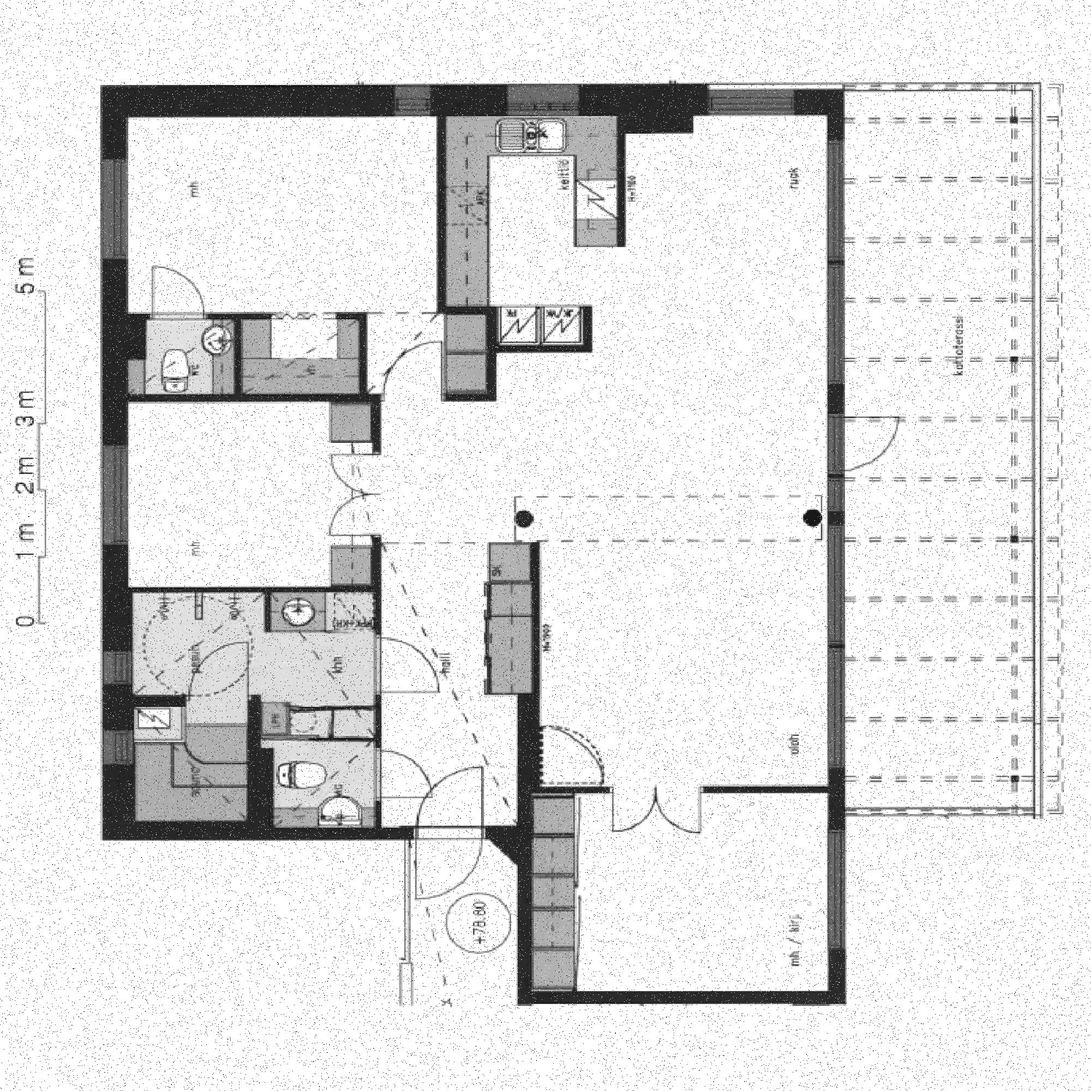wall: (101, 84, 847, 115), (101, 84, 126, 840), (831, 84, 847, 1004), (101, 826, 534, 841), (519, 989, 847, 1003), (371, 402, 380, 826), (127, 394, 499, 403), (519, 826, 534, 1003), (534, 787, 831, 794), (437, 115, 447, 313), (519, 694, 534, 826), (126, 586, 371, 593), (126, 313, 367, 320), (249, 693, 260, 826), (126, 693, 260, 703), (534, 542, 542, 694), (618, 115, 625, 248), (490, 304, 499, 403), (534, 694, 542, 793), (499, 346, 593, 353), (360, 313, 367, 394), (437, 304, 499, 313), (235, 320, 242, 394), (584, 304, 593, 353), (263, 593, 271, 634)
